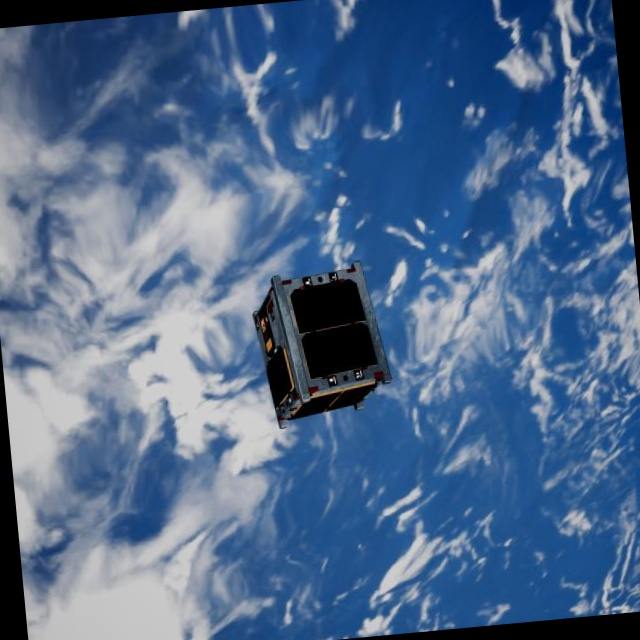medium_debris: (246, 269, 394, 434)
